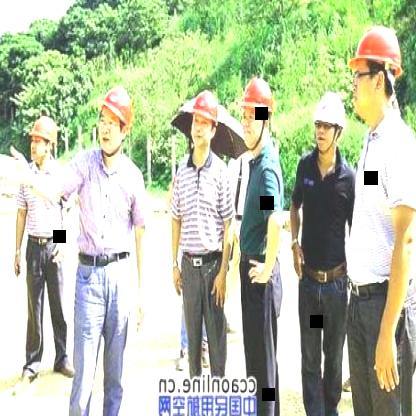helmet: (351, 22, 405, 121), (92, 84, 136, 158), (238, 75, 276, 147), (310, 90, 348, 160), (186, 86, 219, 157), (26, 114, 58, 168)
